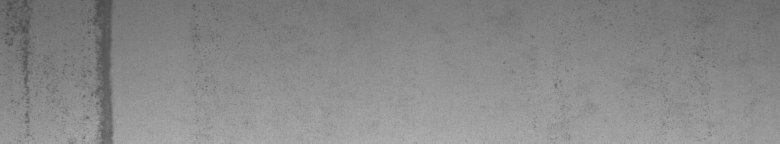hd: (4, 4, 120, 136)
